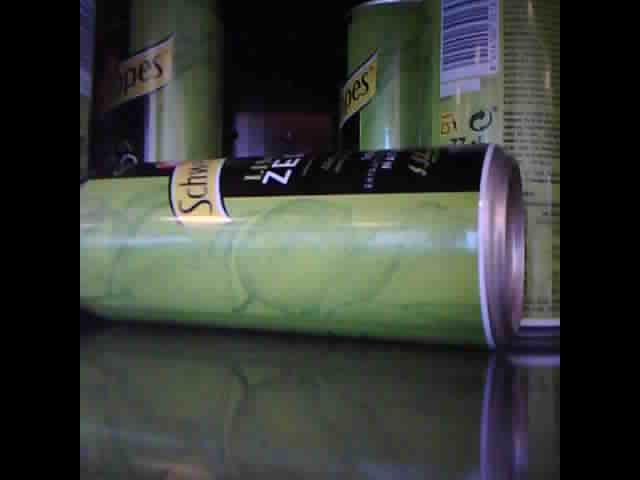schweppes: (81, 137, 528, 324), (426, 2, 557, 331), (118, 1, 223, 164), (346, 3, 412, 154)
